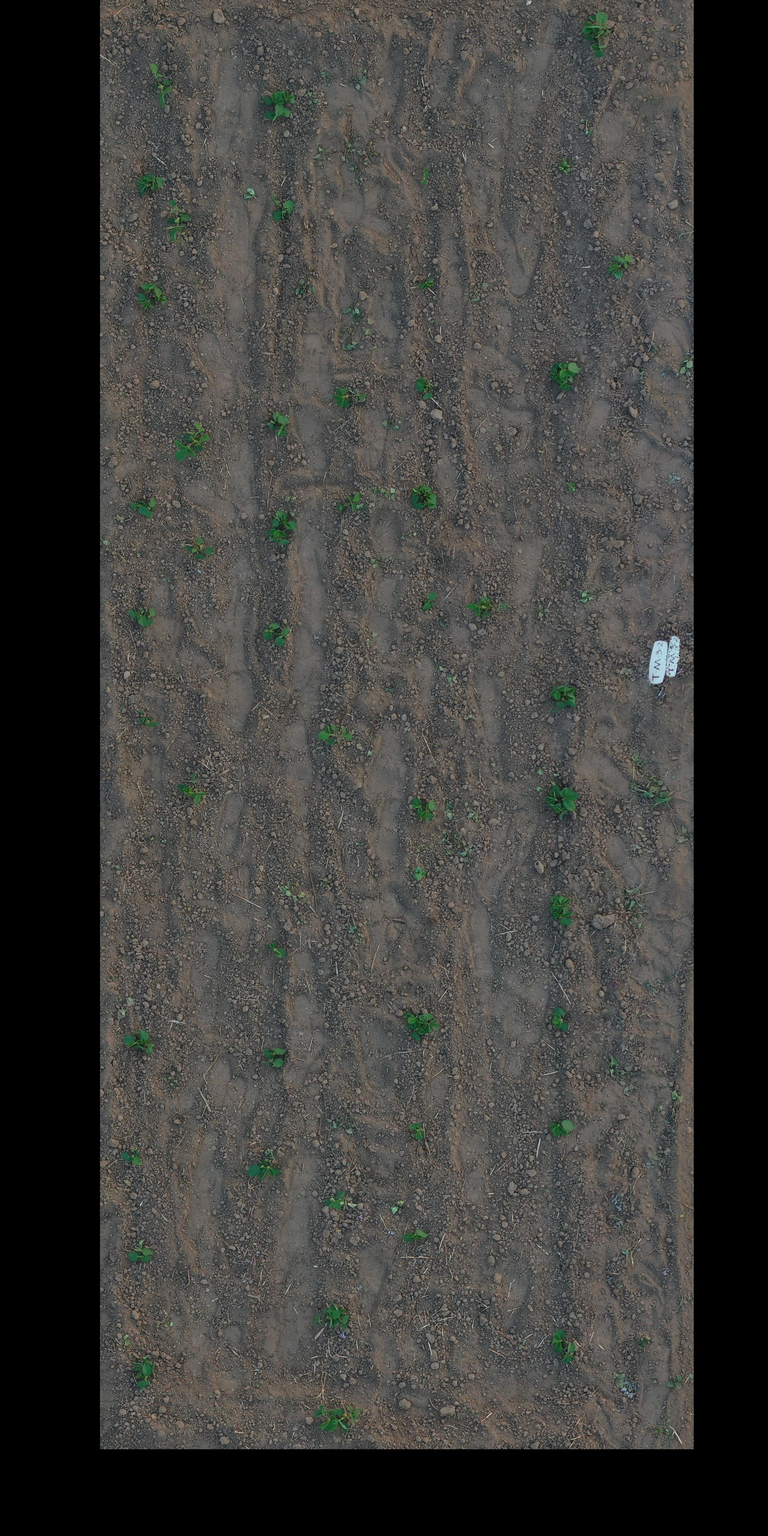s: (173, 422, 210, 462), (584, 11, 612, 58), (166, 198, 192, 243), (465, 594, 508, 620), (149, 62, 173, 108), (324, 1405, 362, 1432), (179, 772, 206, 805), (314, 1404, 345, 1430), (317, 723, 352, 746), (606, 253, 634, 281), (332, 387, 366, 408), (312, 1305, 341, 1328), (405, 1011, 426, 1042), (262, 90, 286, 117), (330, 1304, 350, 1331), (560, 786, 580, 812), (276, 508, 298, 531), (337, 491, 361, 512), (272, 200, 294, 222), (245, 1158, 268, 1179), (550, 1119, 575, 1138), (418, 1012, 440, 1033), (324, 1190, 346, 1211), (195, 533, 215, 556), (552, 1006, 569, 1032), (551, 1328, 568, 1354), (134, 173, 152, 197), (263, 107, 290, 123), (558, 360, 582, 378), (544, 784, 562, 808), (551, 895, 572, 915), (400, 1228, 430, 1242), (581, 14, 600, 36), (136, 1363, 152, 1388), (127, 608, 148, 627), (548, 682, 569, 701), (128, 498, 150, 516), (549, 361, 566, 384), (123, 1034, 146, 1051), (182, 545, 206, 561), (411, 797, 427, 821), (420, 799, 436, 822), (139, 1030, 154, 1054), (134, 1238, 154, 1256), (143, 174, 164, 191), (560, 1342, 576, 1364), (258, 1166, 283, 1180), (410, 481, 425, 504), (415, 381, 433, 400), (549, 803, 568, 821), (552, 911, 573, 927), (274, 415, 289, 437), (132, 1356, 154, 1371), (262, 622, 280, 640), (408, 1122, 425, 1141), (262, 1047, 286, 1060), (120, 1152, 142, 1166), (138, 292, 156, 309), (557, 374, 574, 392), (412, 498, 437, 510), (177, 783, 197, 798), (127, 1251, 152, 1263), (153, 285, 167, 306), (275, 626, 289, 647), (268, 942, 286, 958), (422, 592, 437, 611), (561, 686, 576, 705), (266, 410, 280, 430), (144, 497, 156, 520), (556, 696, 577, 709), (422, 485, 437, 503), (140, 281, 160, 294), (144, 607, 156, 627), (417, 376, 434, 390), (416, 278, 435, 290), (267, 526, 286, 538), (280, 90, 295, 104), (268, 536, 290, 545), (265, 1058, 284, 1068), (549, 894, 558, 915), (558, 158, 568, 174), (271, 512, 281, 528), (145, 717, 160, 727), (565, 482, 576, 493), (136, 1368, 147, 1379), (421, 171, 429, 186), (138, 606, 148, 614), (129, 1148, 140, 1155), (565, 163, 572, 172), (138, 716, 145, 725), (136, 1029, 147, 1034), (264, 1158, 272, 1163), (422, 168, 429, 173), (140, 710, 145, 717)
